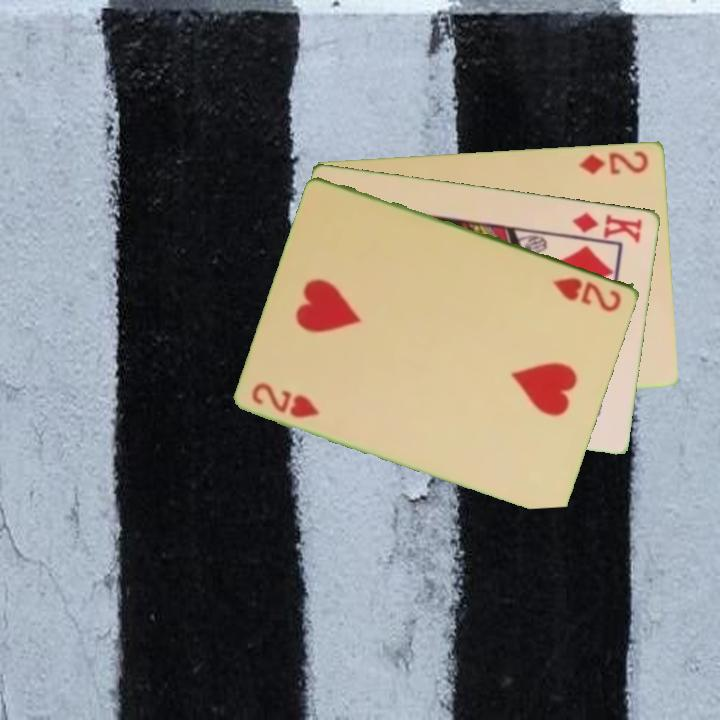2d: (576, 147, 652, 177)
2h: (248, 378, 324, 421), (549, 273, 625, 315)
Kd: (569, 208, 646, 246)
